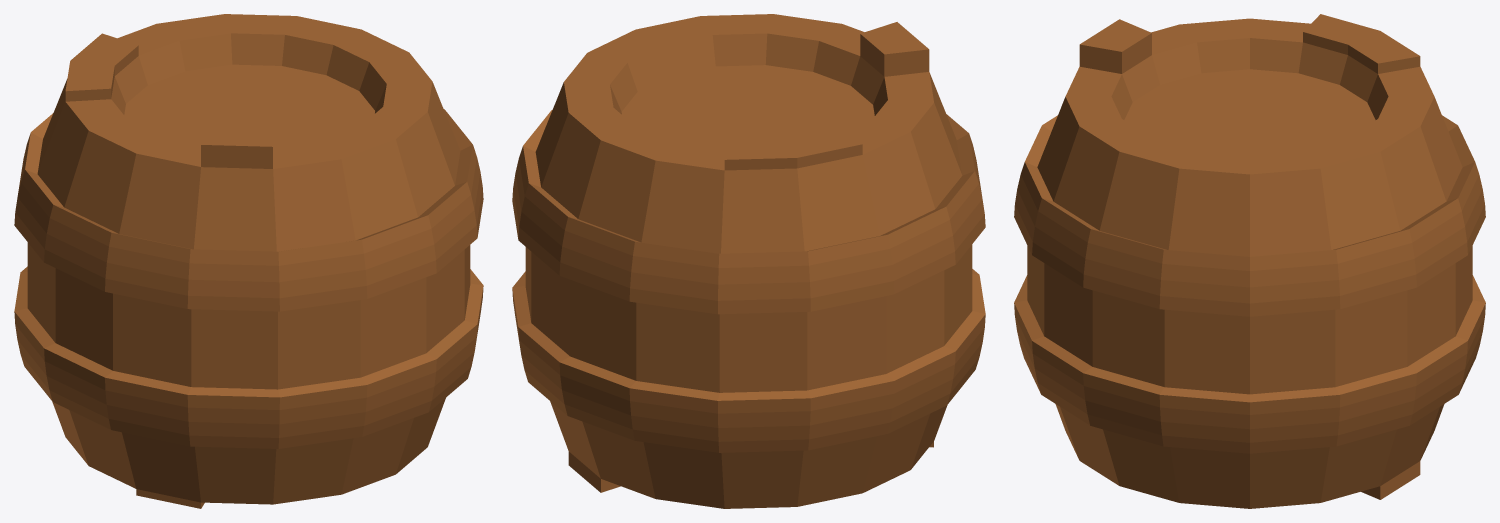
File: barrel.fbx
The picture shows the model from 3 angles, left to right: view 1: azimuth 30°, elevation 25°; view 2: azimuth 150°, elevation 25°; view 3: azimuth 270°, elevation 25°; orthographic projection.
Parts seen in each view (by area): view 1: Cylinder; view 2: Cylinder; view 3: Cylinder.
Part boxes in pixels (<box>): Cylinder: <box>14,14,483,508</box>; Cylinder: <box>512,14,985,508</box>; Cylinder: <box>1014,14,1485,508</box>.
Size of the model in its own units: 147 by 128 by 147.
